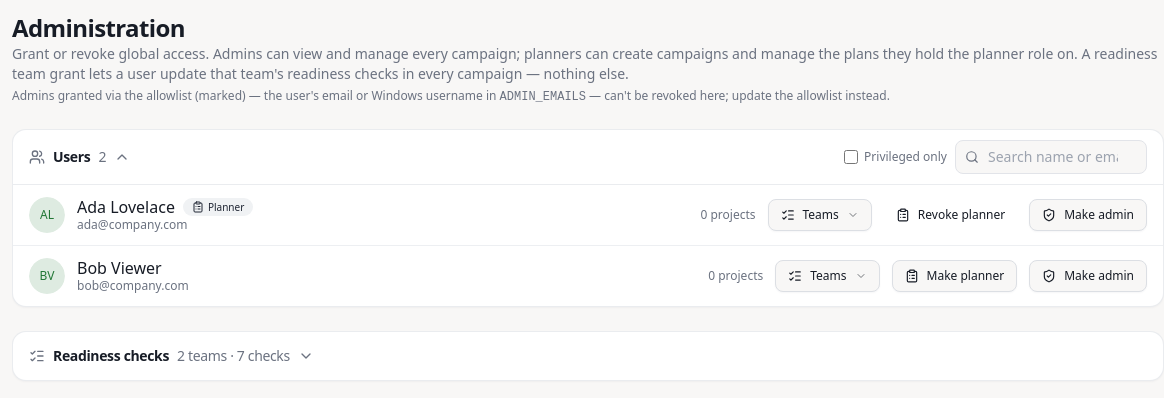
Test: Admin › filters users by search and by the privileged-only toggle
Check: the text "Ada Lovelace" is shown, box [77,197,175,217]
Check: the text "Bob Viewer" is shown, box [77,258,162,278]
// Search narrows by name/email.
Type "bob" into the field with test id "admin-user-search".
click(1051, 157); type("bob")  # box [955,140,1147,174]
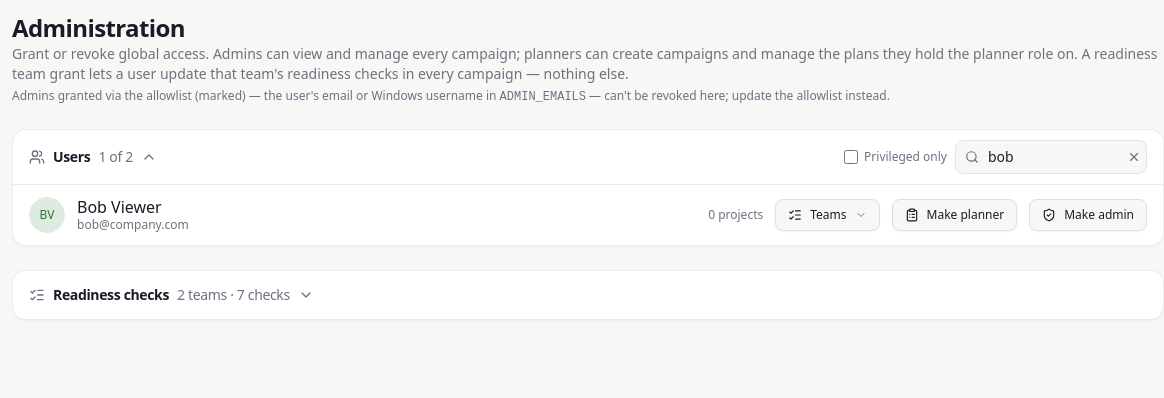
Check: the text "Bob Viewer" is shown, box [77,197,162,217]
Check: the text "Ada Lovelace" is gone
// Privileged-only hides plain read-only users.
Clear the field with test id "admin-user-search" at (1051, 157), box [955,140,1147,174]
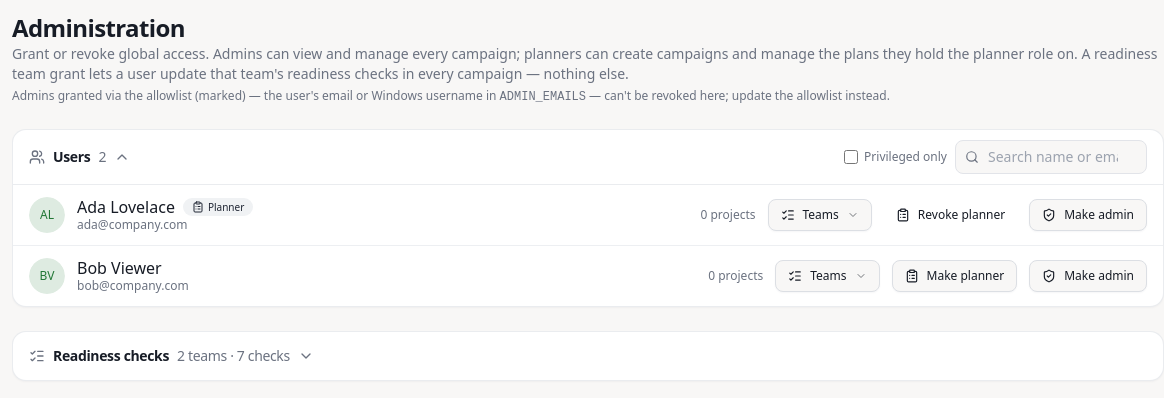
Click the checkbox labelled "Privileged only".
click(851, 157)  # box [844,150,858,164]
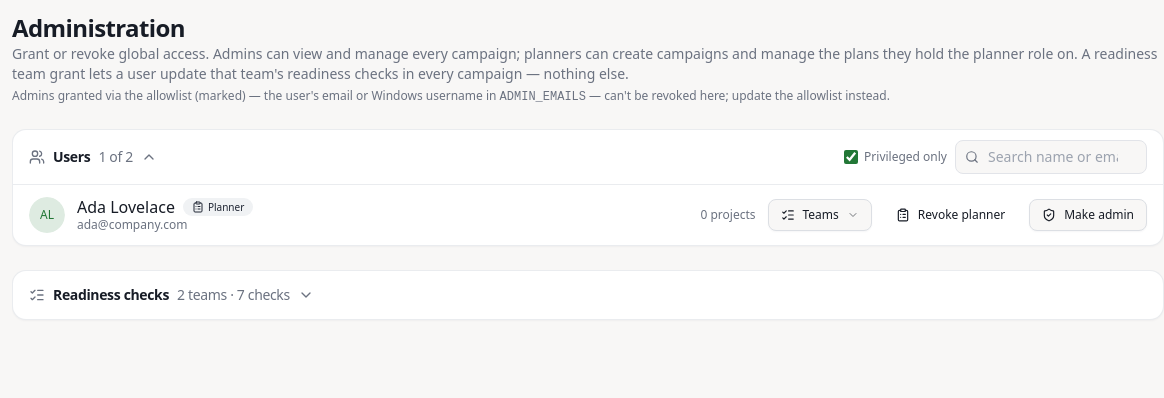
Check: the text "Ada Lovelace" is shown, box [77,197,175,217]
Check: the text "Bob Viewer" is gone
